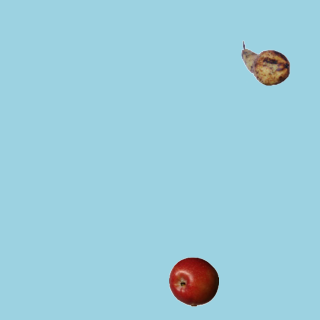Apple Braeburn: (168, 256, 218, 306)
Pear Abate: (240, 38, 290, 88)
